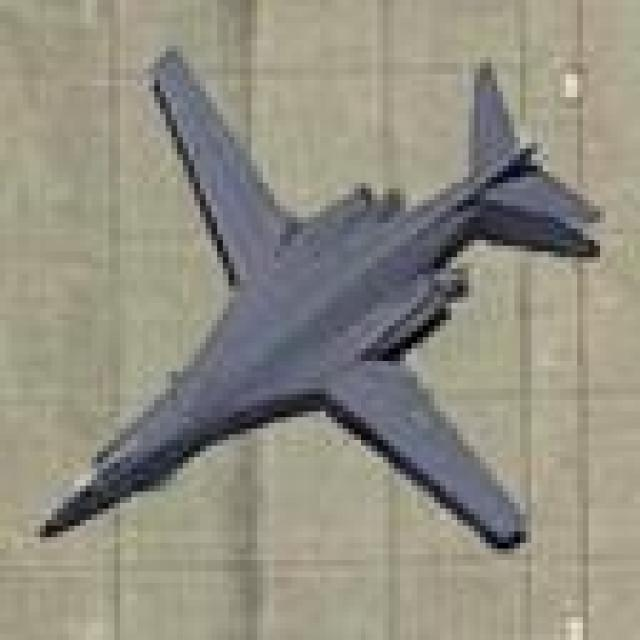B-1_TopDown: (34, 40, 600, 554)
